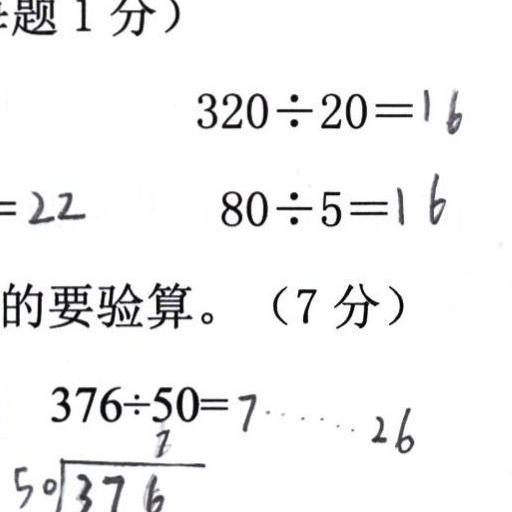ans: (233, 389, 415, 454), (388, 168, 445, 226), (23, 182, 84, 226), (418, 82, 464, 135)
